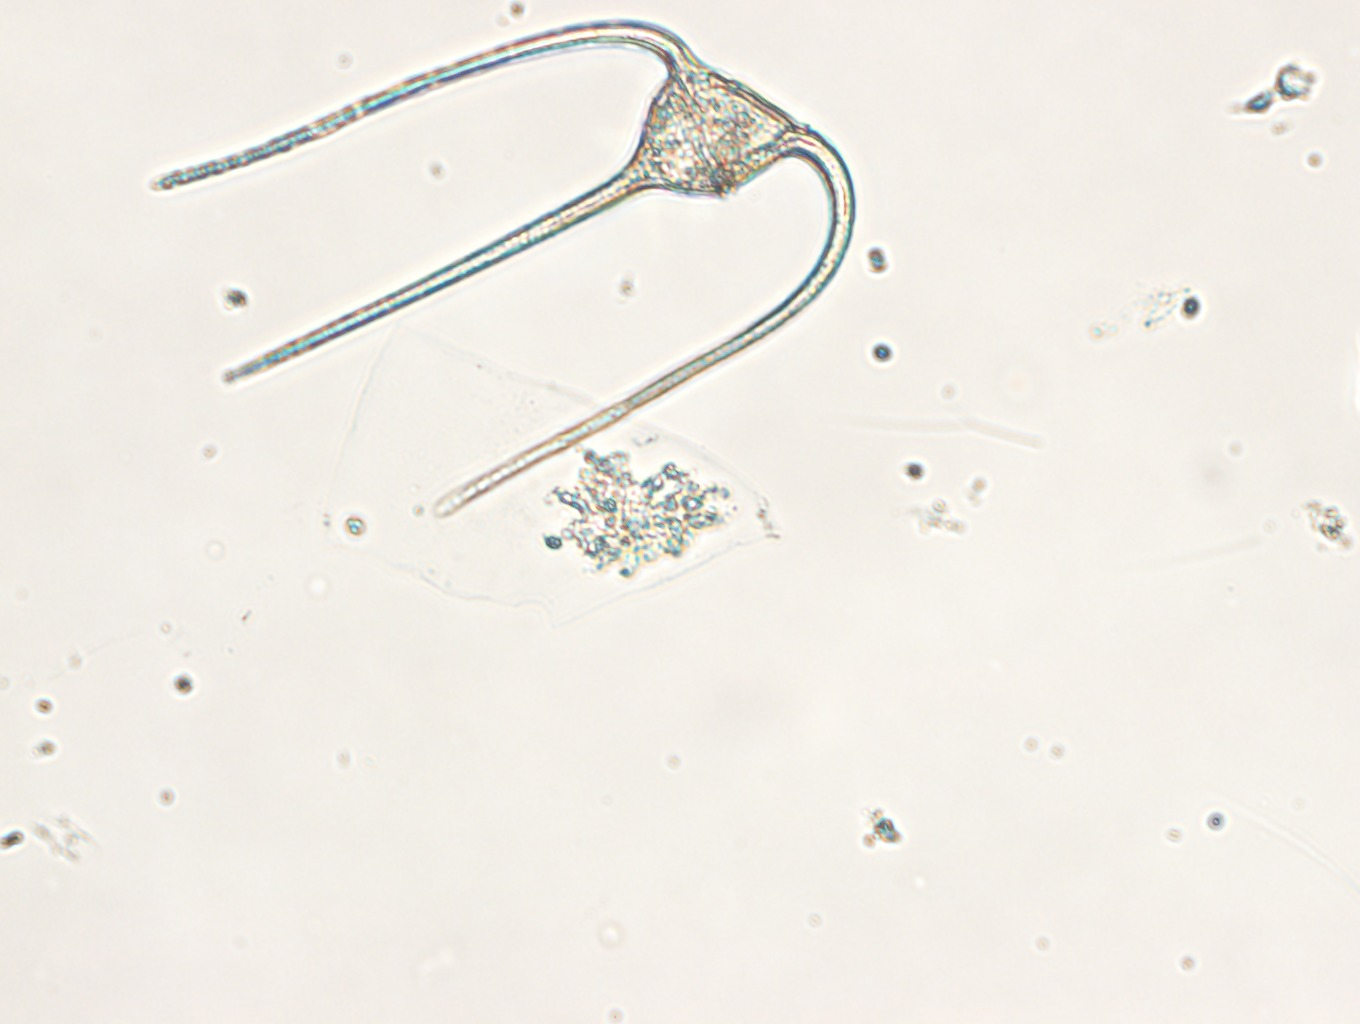ceratium trichoceros: (153, 17, 855, 516)
helicotheca: (324, 338, 768, 609)
